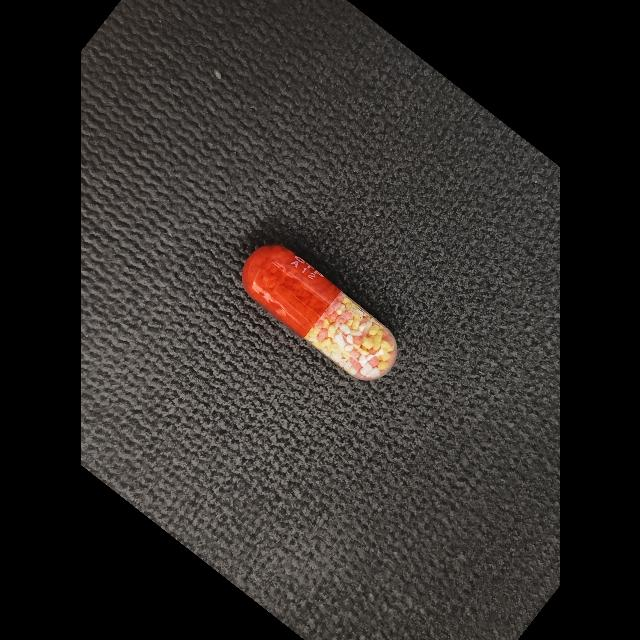Intact Capsule: (241, 245, 397, 380)
